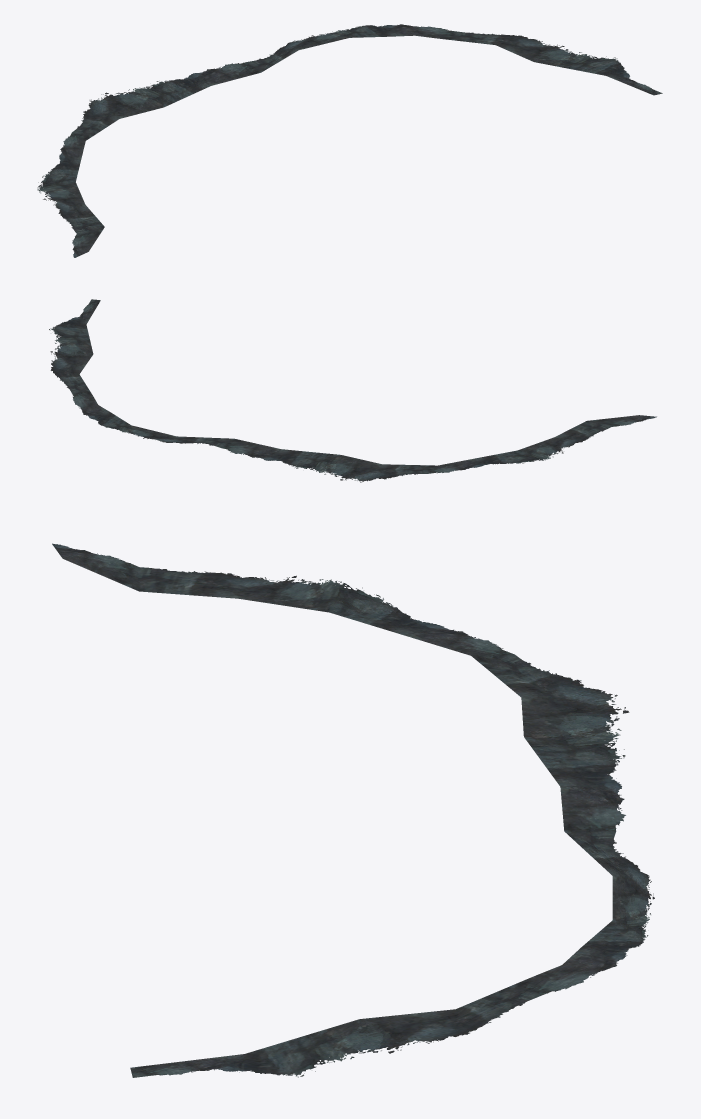
The model's file is blend_weeds17.fbx.
3 renders of one model, top to bottom at view 1: azimuth 30°, elevation 25°; view 2: azimuth 150°, elevation 25°; view 3: azimuth 270°, elevation 25°, orthographic. The views are drawn at different scales.
Visible parts, largest first — view 1: New_terrain/Material_#238682132; view 2: New_terrain/Material_#238682132; view 3: New_terrain/Material_#238682132.
Part boxes in pixels (x1,y1,x2,y2): New_terrain/Material_#238682132: (37, 24, 662, 257); New_terrain/Material_#238682132: (49, 299, 656, 482); New_terrain/Material_#238682132: (52, 543, 654, 1077).
Size of the model in its own units: 32.5 by 0.1522 by 15.
